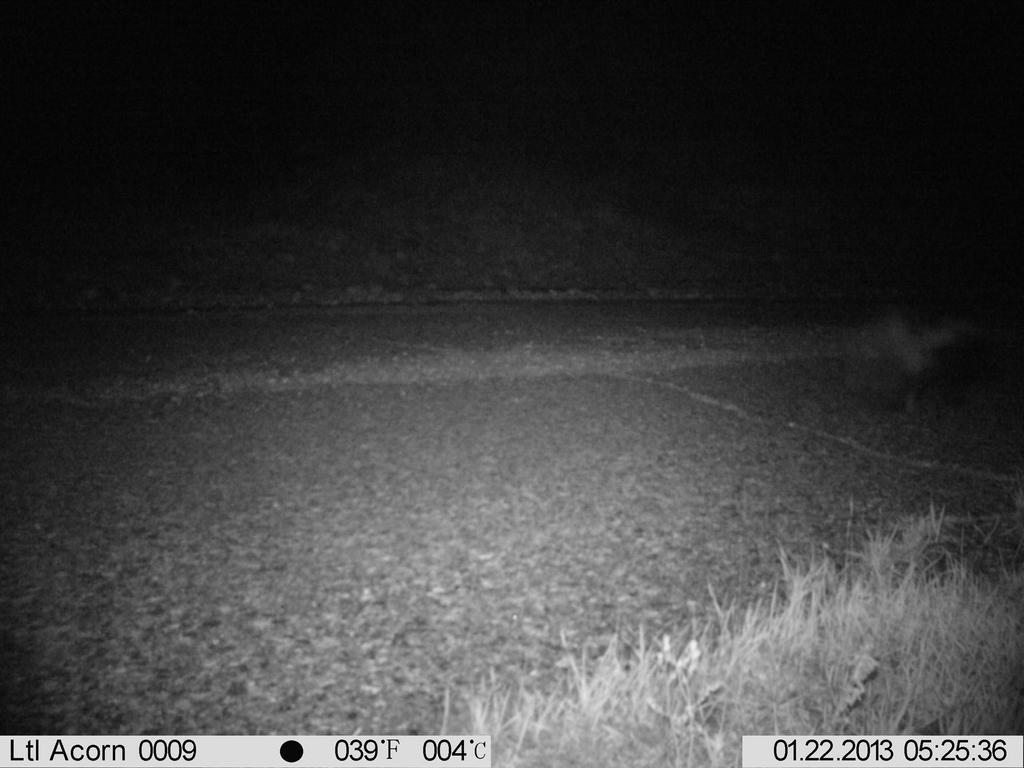skunk: (848, 297, 1013, 425)
